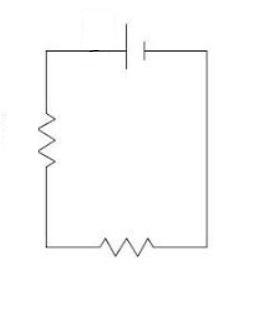resistor: (27, 99, 73, 175), (86, 225, 166, 265)
